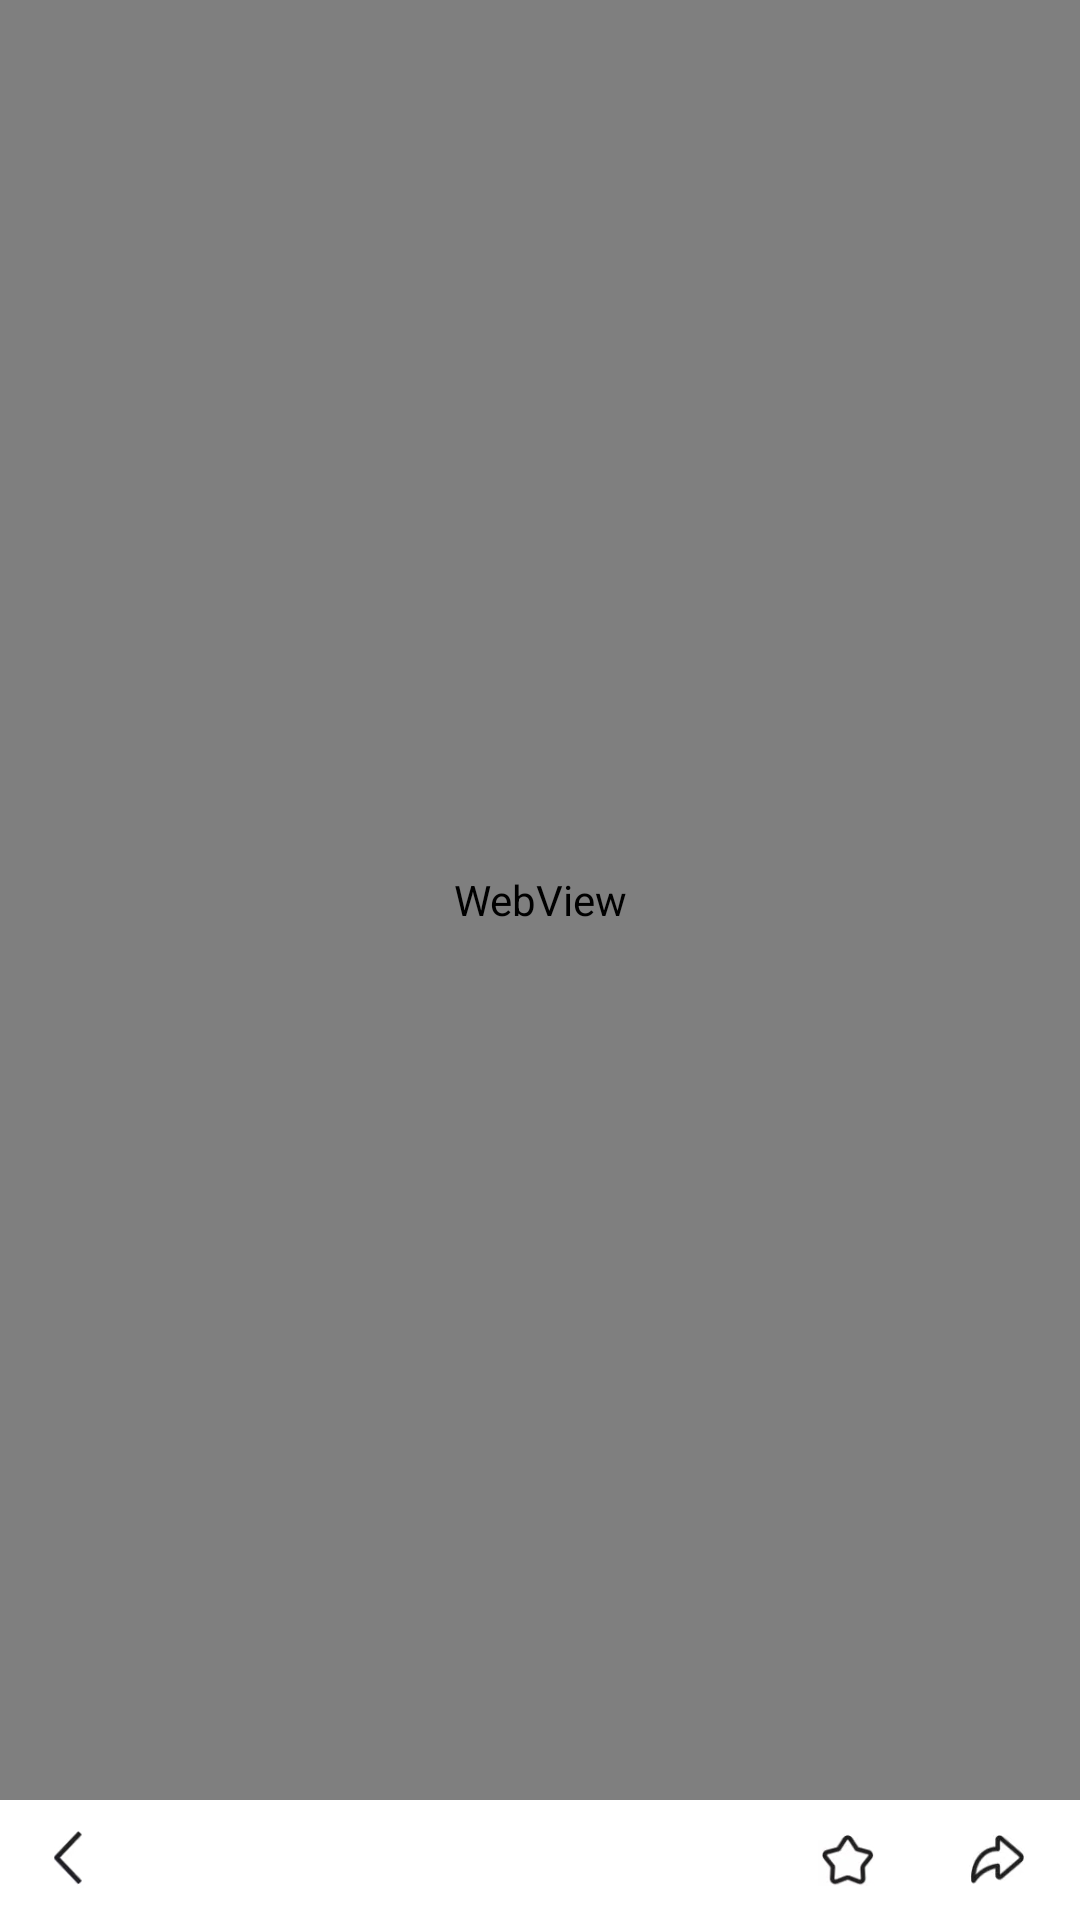

Icon click points for this 1080w x 1920h phone screenshot, format point (x, y):
back: point (68, 1857)
collect: point (847, 1860)
share: point (997, 1859)
